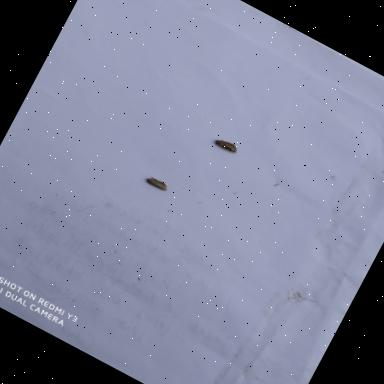pbw: (211, 132, 244, 158), (142, 171, 170, 194)
